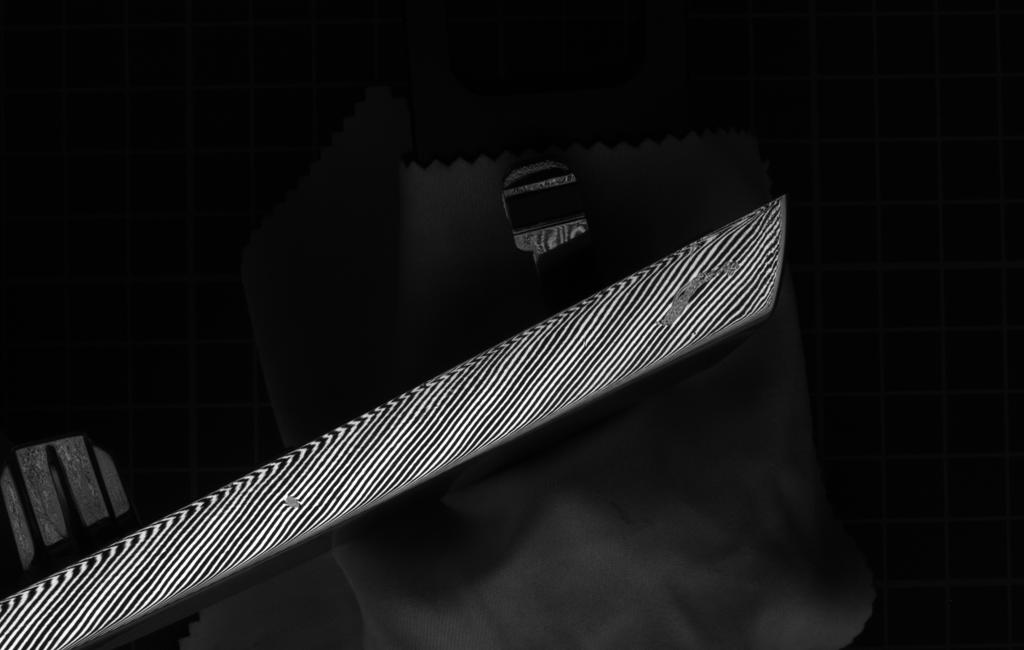Pierced: (281, 492, 303, 513)
Scratch: (649, 255, 744, 337)
